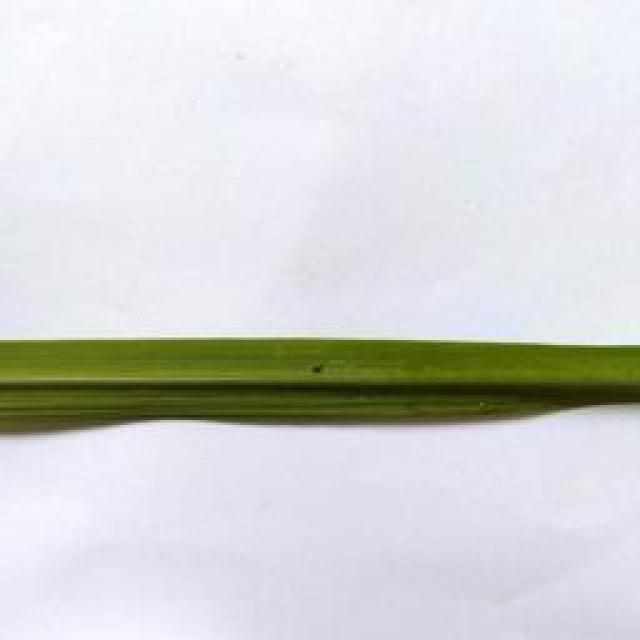Healthy-Plant: (0, 325, 640, 445)
